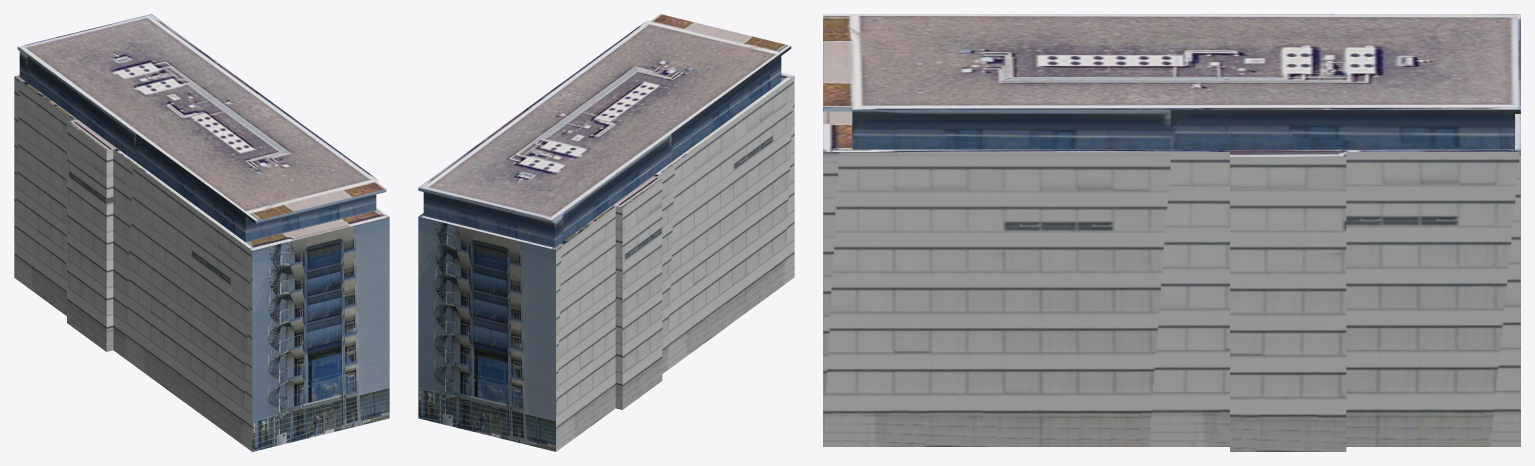
Rendered from KoPf_Altana_Lilienthalstr_9_lod2.dae.
3 views of the same model, side by side, from view 1: azimuth 30°, elevation 25°; view 2: azimuth 150°, elevation 25°; view 3: azimuth 270°, elevation 25° (orthographic). The views are drawn at different scales.
Parts seen in each view (by area): view 1: SketchUp (×5); view 2: SketchUp (×5); view 3: SketchUp (×4).
Part boxes in pixels (left/top/right/bottom): SketchUp (×5): left=14, top=14, right=389, bottom=451; SketchUp (×5): left=418, top=14, right=794, bottom=451; SketchUp (×4): left=823, top=14, right=1520, bottom=451.
Size of the model in its own units: 866 by 2362 by 1260.
